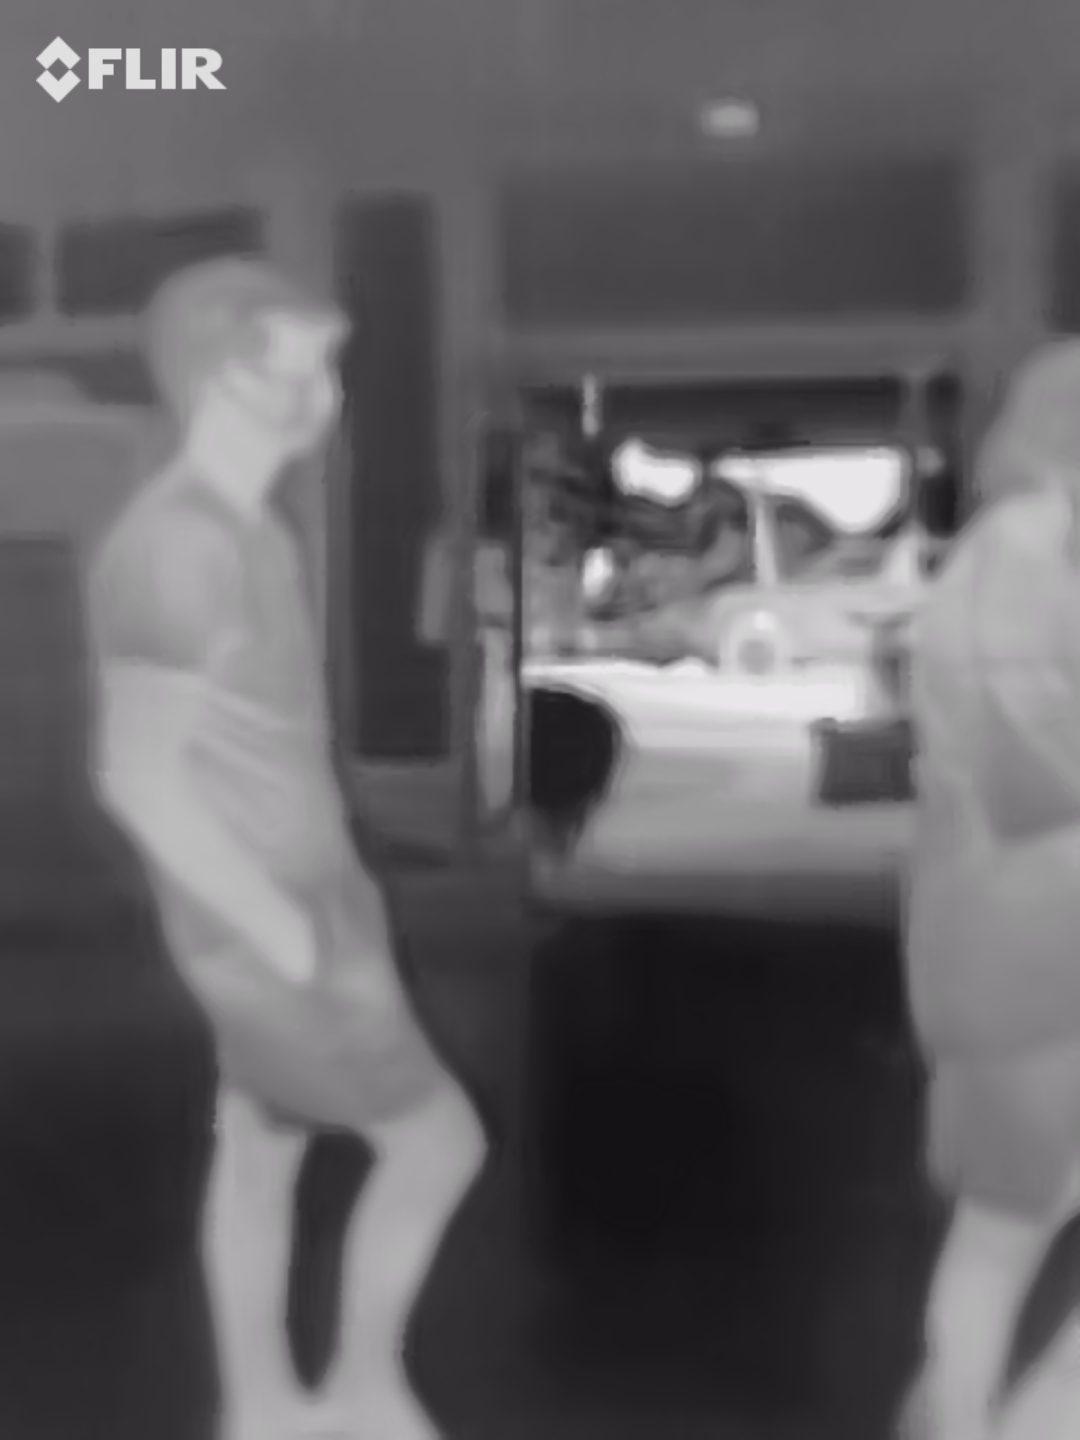head: (133, 253, 347, 465)
